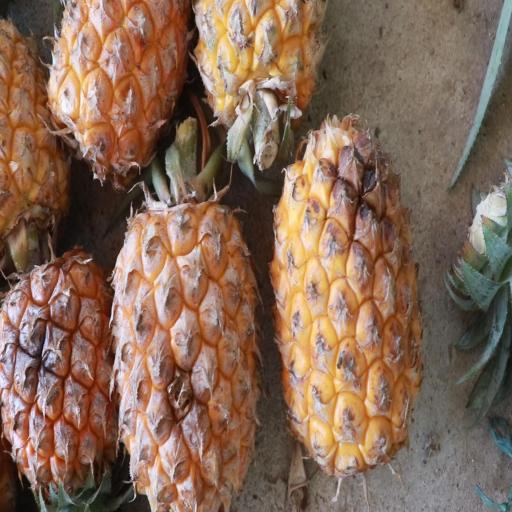Pineapple - v8 v1: (268, 110, 427, 480), (110, 164, 261, 512), (0, 243, 125, 512), (44, 0, 194, 188), (196, 0, 330, 176), (0, 0, 82, 260)
